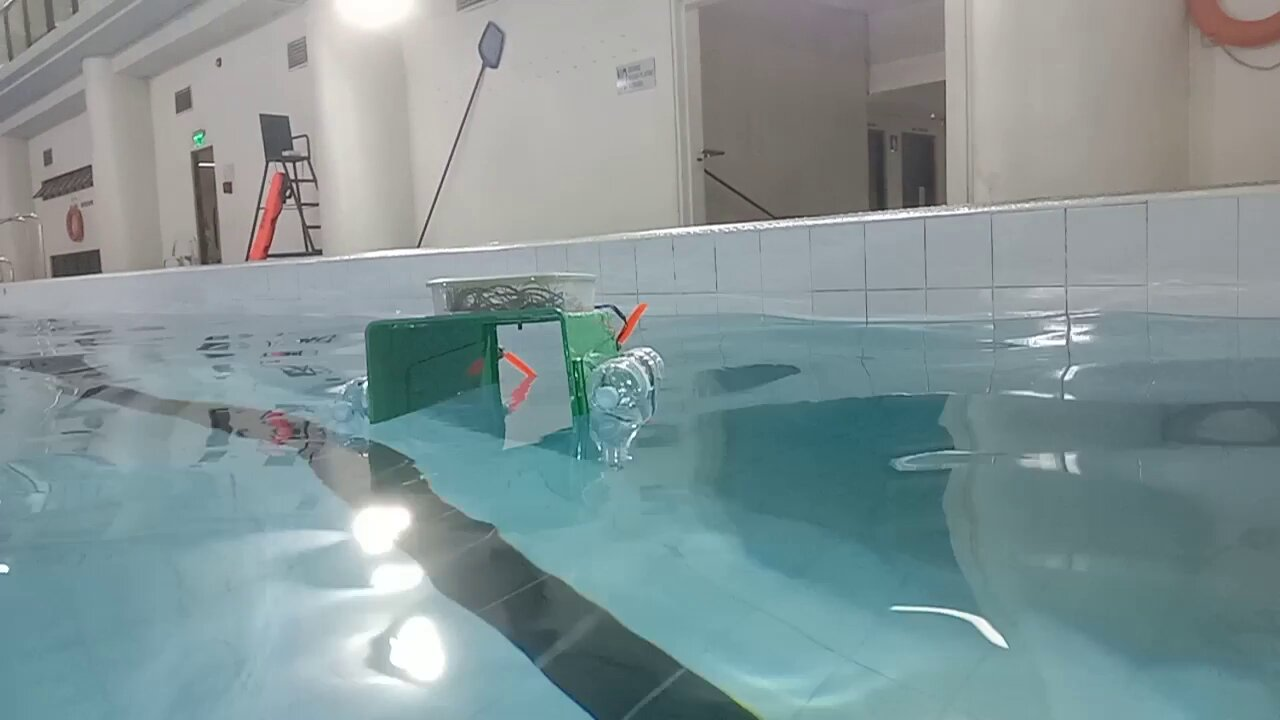drone: (331, 270, 666, 427)
